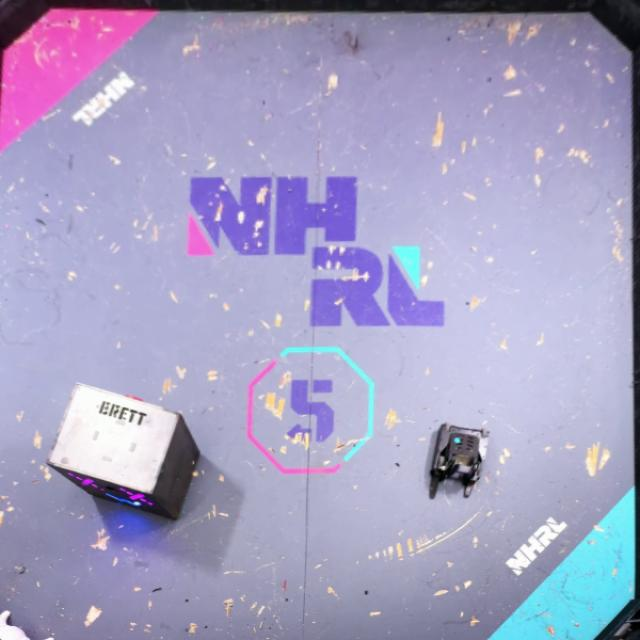housebot: (44, 385, 205, 521)
robot: (428, 422, 491, 504)
